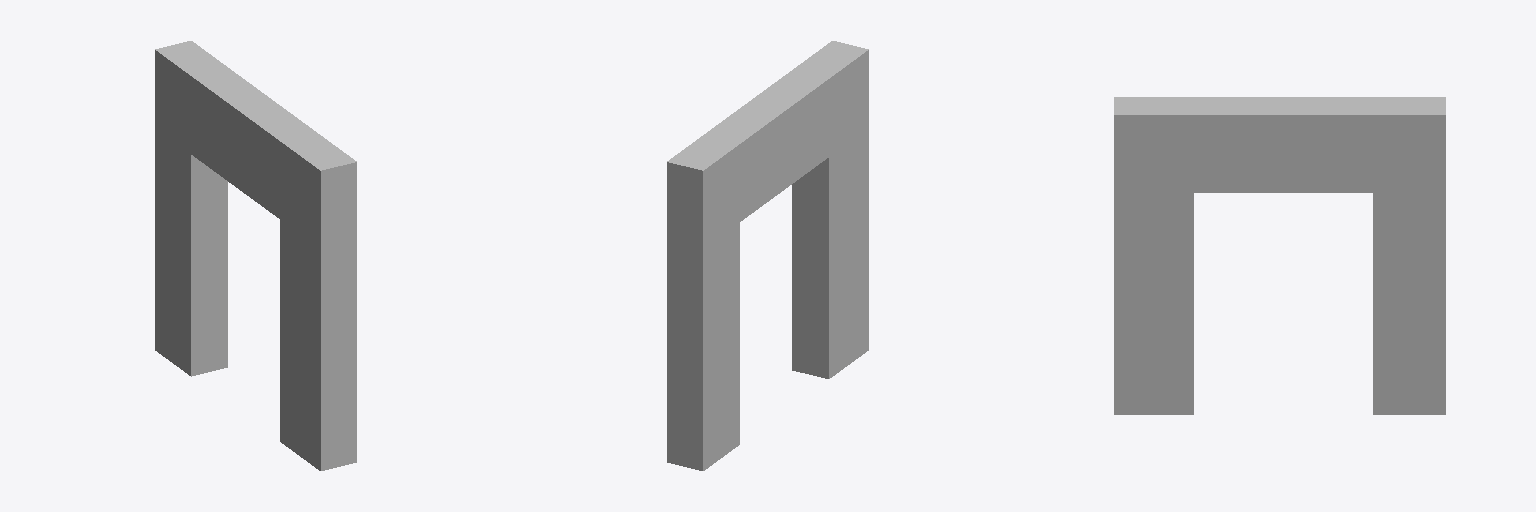
Rendered from wall_door.obj.
3 views of the same model, side by side, from view 1: azimuth 30°, elevation 25°; view 2: azimuth 150°, elevation 25°; view 3: azimuth 270°, elevation 25° (orthographic).
Parts seen in each view (by area): view 1: WallDoor_Cube.001; view 2: WallDoor_Cube.001; view 3: WallDoor_Cube.001.
Part boxes in pixels (bbox=[...]): WallDoor_Cube.001: bbox=[155, 41, 356, 470]; WallDoor_Cube.001: bbox=[667, 41, 868, 470]; WallDoor_Cube.001: bbox=[1114, 97, 1445, 414].
Bounding box in the file's own units: 0.2553 × 2 × 2.